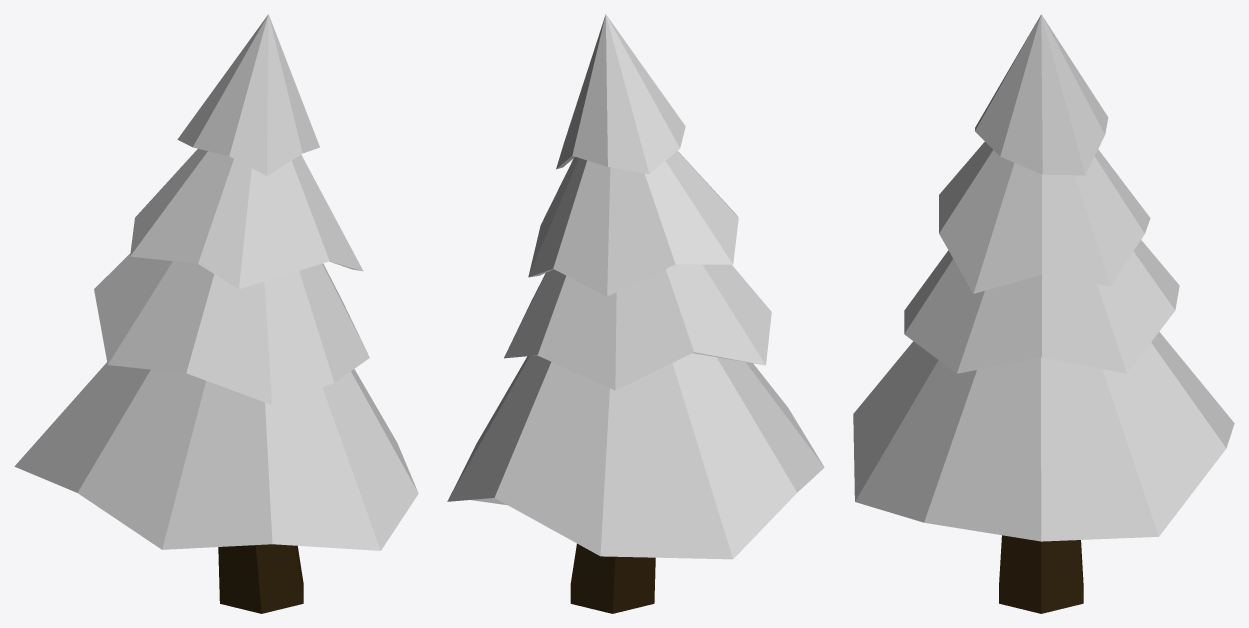
File: tree_snowy.fbx
3 views of the same model, side by side, from view 1: azimuth 30°, elevation 25°; view 2: azimuth 150°, elevation 25°; view 3: azimuth 270°, elevation 25° (orthographic).
Parts seen in each view (by area): view 1: Bottom Leaves, Lower Mid Leaves, Upper Mid Leaves, Top Leaves, Bottom; view 2: Bottom Leaves, Lower Mid Leaves, Upper Mid Leaves, Top Leaves, Bottom; view 3: Bottom Leaves, Lower Mid Leaves, Upper Mid Leaves, Top Leaves, Bottom.
Part boxes in pixels (x1=…): Bottom Leaves: x1=14, y1=362, x2=418, y2=550; Lower Mid Leaves: x1=94, y1=253, x2=369, y2=404; Upper Mid Leaves: x1=130, y1=148, x2=363, y2=289; Top Leaves: x1=177, y1=14, x2=319, y2=175; Bottom: x1=218, y1=544, x2=303, y2=613; Bottom Leaves: x1=447, y1=353, x2=824, y2=559; Lower Mid Leaves: x1=504, y1=264, x2=771, y2=390; Upper Mid Leaves: x1=528, y1=151, x2=738, y2=296; Top Leaves: x1=556, y1=14, x2=685, y2=174; Bottom: x1=570, y1=543, x2=655, y2=613; Bottom Leaves: x1=853, y1=331, x2=1234, y2=541; Lower Mid Leaves: x1=904, y1=240, x2=1179, y2=373; Upper Mid Leaves: x1=939, y1=142, x2=1150, y2=293; Top Leaves: x1=975, y1=14, x2=1108, y2=175; Bottom: x1=999, y1=535, x2=1083, y2=613.
Size of the model in its own units: 213 by 367 by 218.
